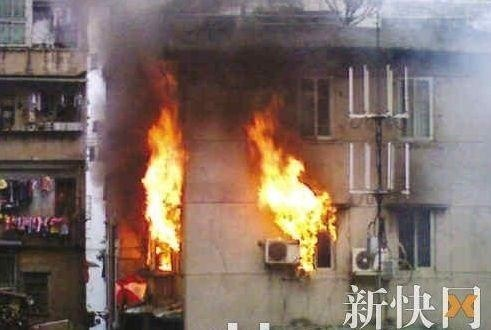fire: (245, 105, 342, 272), (141, 85, 185, 263)
